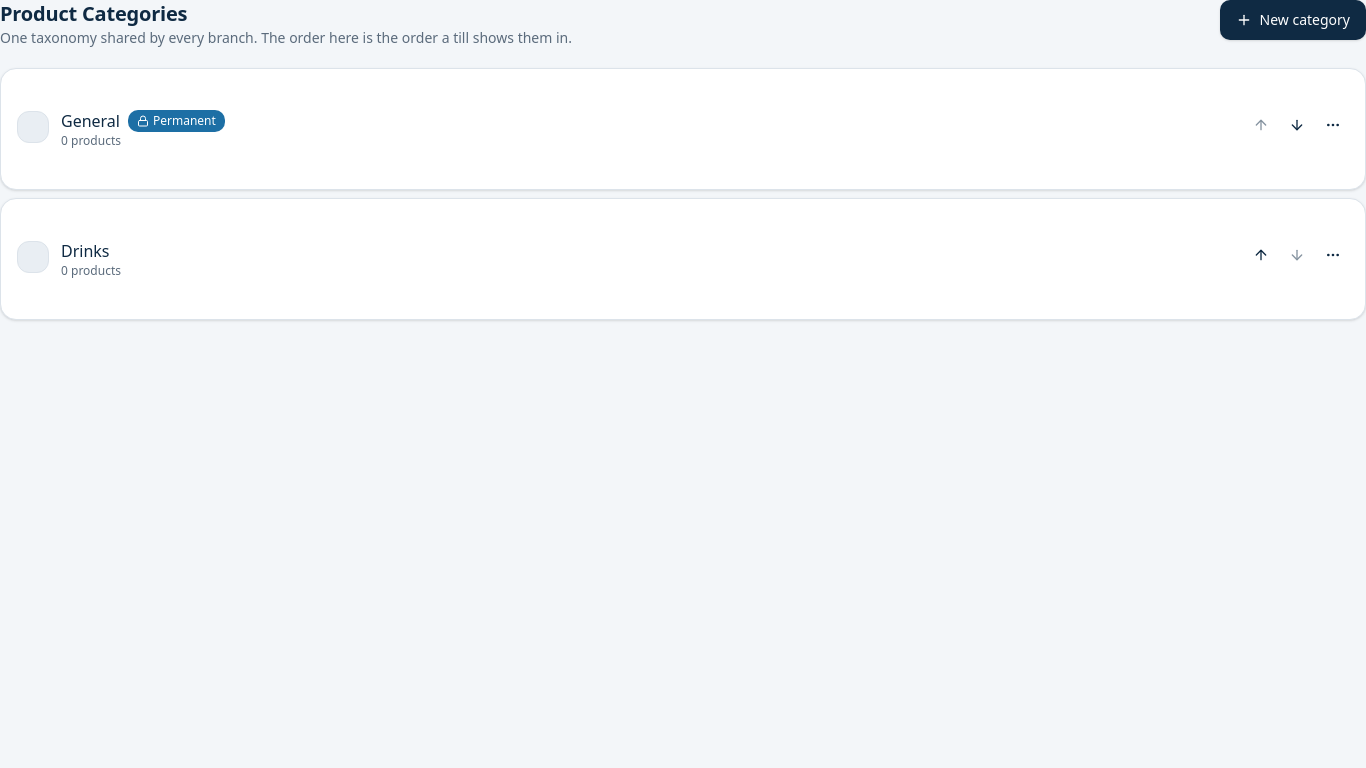
Test case: the category dialog › refuses a duplicate name before the round trip
The image size is (1366, 768).
Click the button "New category": click(1293, 20) [1220,0,1365,40]
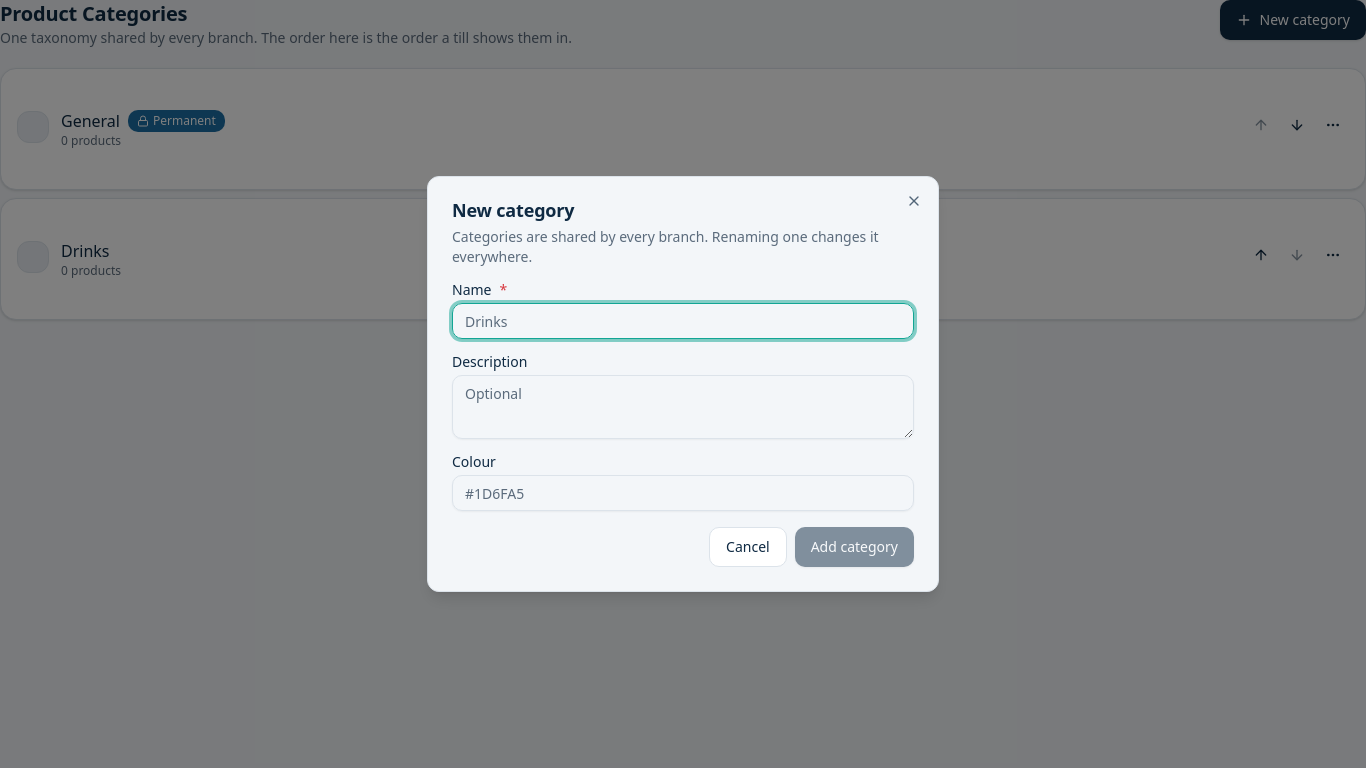
In the field labelled "Name *": (683, 321) [452,303,914,339], type "  drinks "
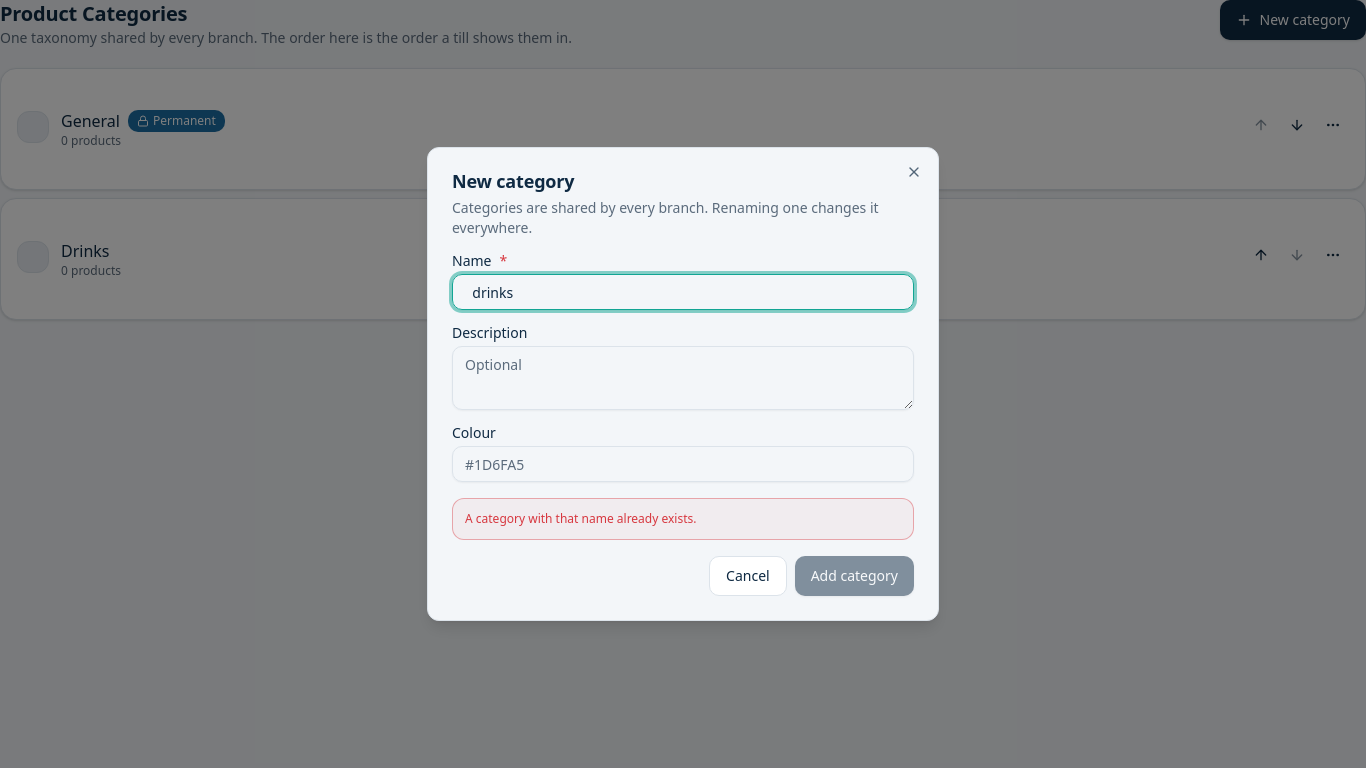
Expected: the button "Add category" is disabled, [795,556,914,596]
Expected: the list item "A category with that name already exists." is shown, [465,510,696,527]
